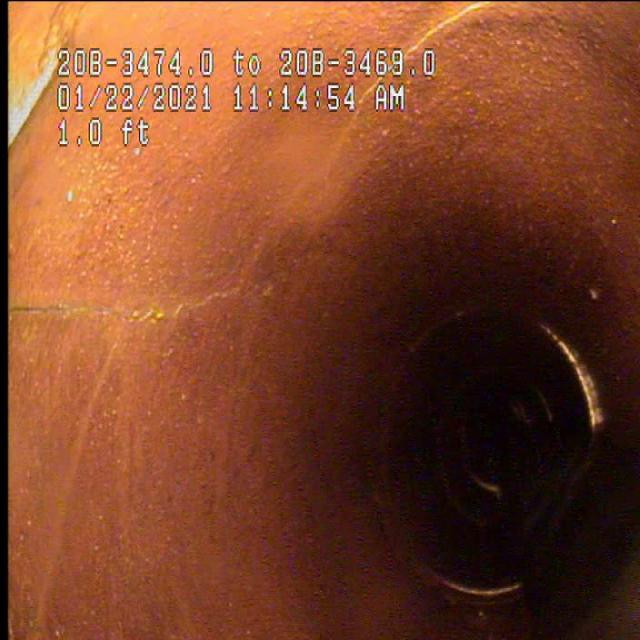Crack: (18, 256, 240, 359)
